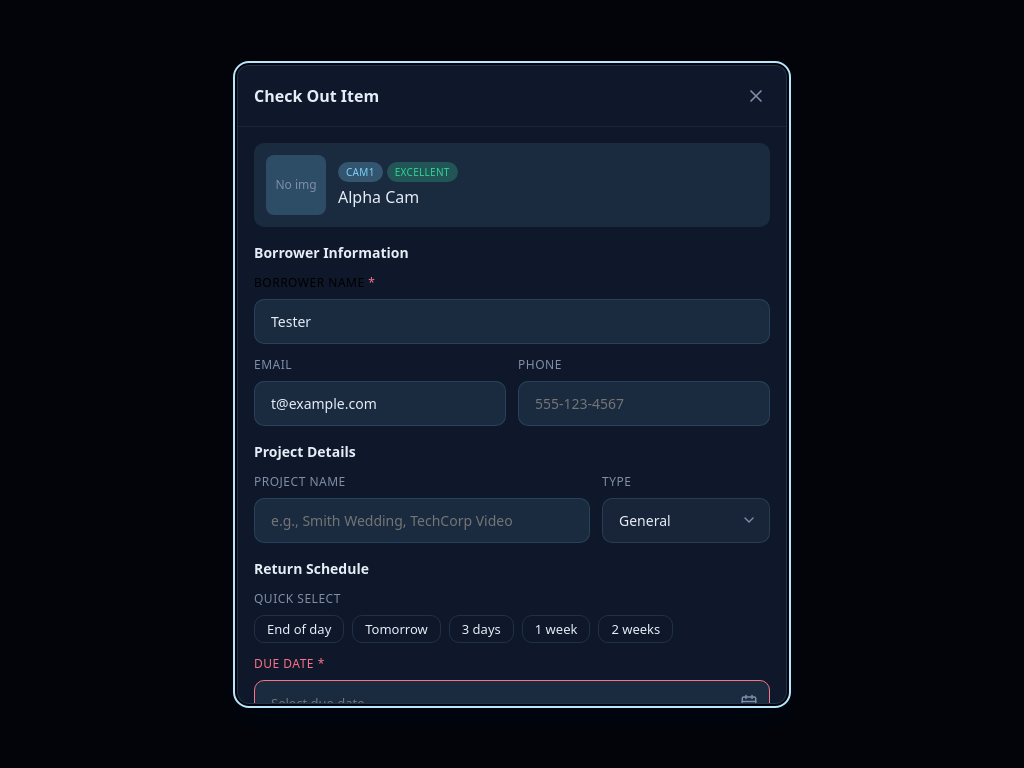
Test: CheckOutModal reservation warning › stays quiet without overlapping reservations, then warns when the due date reaches one
The image size is (1024, 768).
Expected: the text "reserved during the checkout period" is not shown
# Quick-pick "1 week" pushes the window across the reservation
Click the button "1 week". click: [556, 628]
box: 522,614 -> 590,642
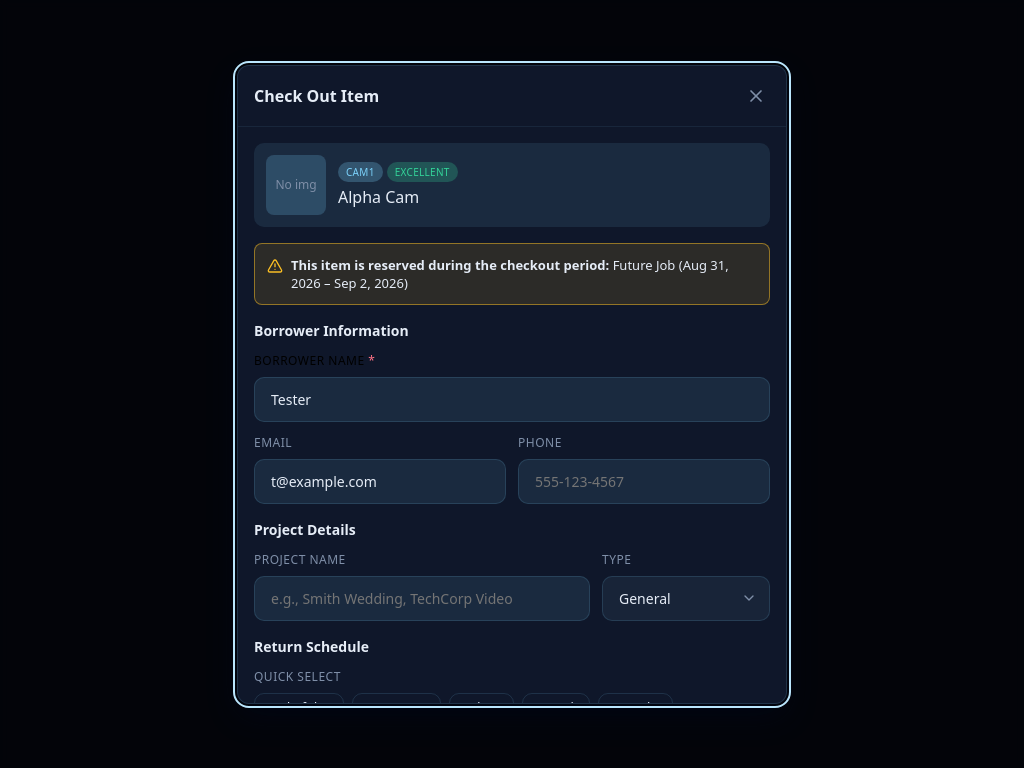
Result: the text "This item is reserved during the checkout period:" is shown at 291,256 -> 609,274
Result: the text "Future Job" is shown at 291,256 -> 729,292
